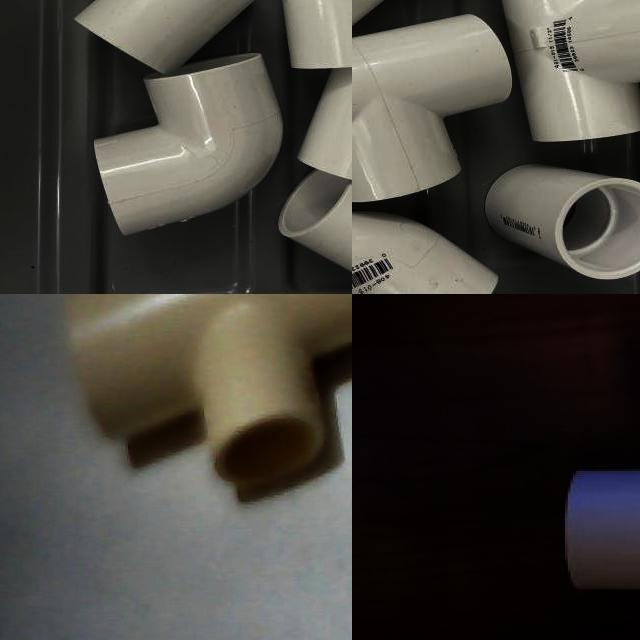L Joint: (352, 212, 499, 294)
T Joint: (65, 294, 352, 505), (352, 15, 513, 204)
